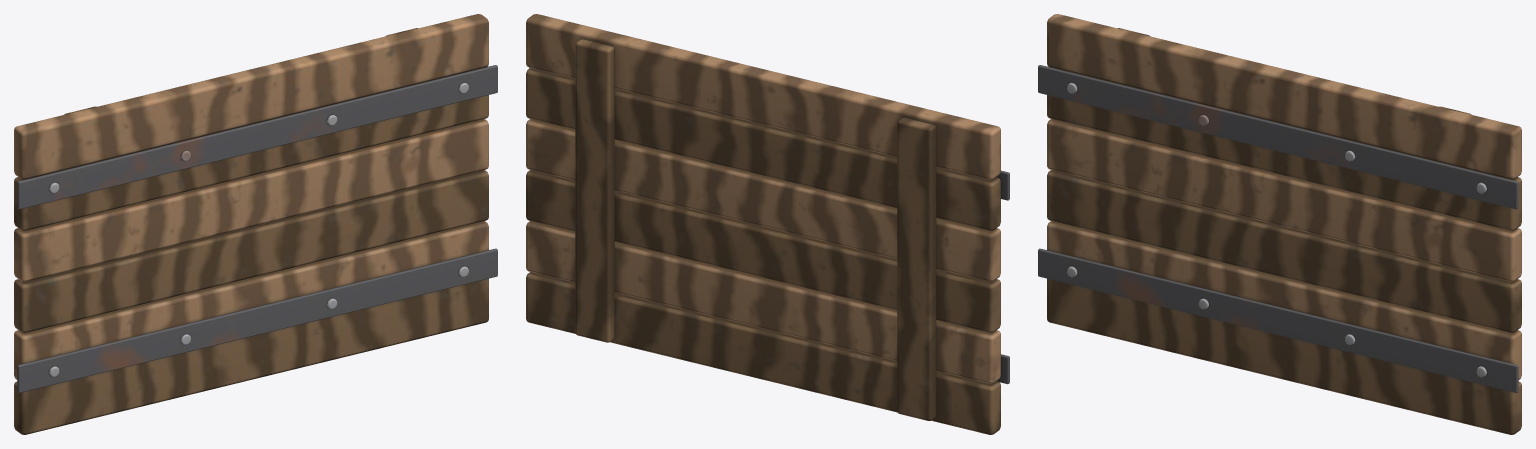
File: panel.glb
The picture shows the model from 3 angles, left to right: view 1: azimuth 30°, elevation 25°; view 2: azimuth 150°, elevation 25°; view 3: azimuth 330°, elevation 25°; orthographic projection.
Visible parts, largest first — view 1: Panel; view 2: Panel; view 3: Panel.
Boxes of the visible parts, x1,y1,x2,y2 form: Panel: (14, 14, 497, 434); Panel: (526, 14, 1009, 434); Panel: (1038, 14, 1521, 434).
Size of the model in its own units: 1.64 by 0.9935 by 0.115.
4 materials, 4 textured.
